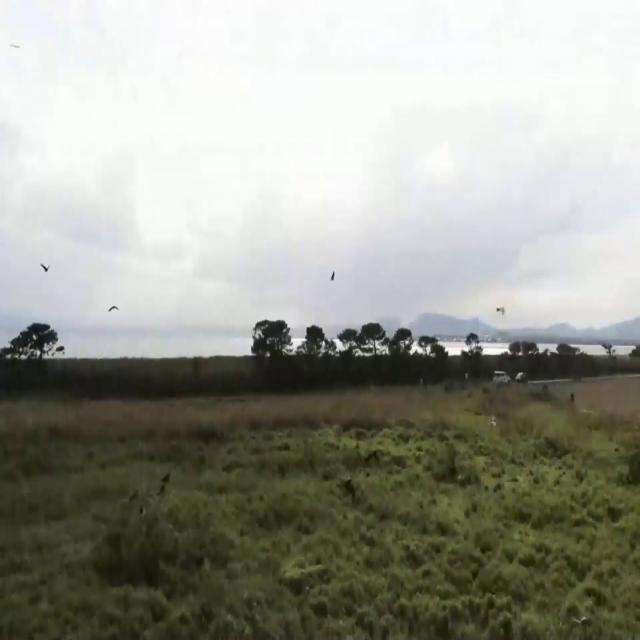bird: (40, 254, 51, 284), (9, 33, 21, 59), (108, 295, 119, 323), (496, 298, 506, 324)
